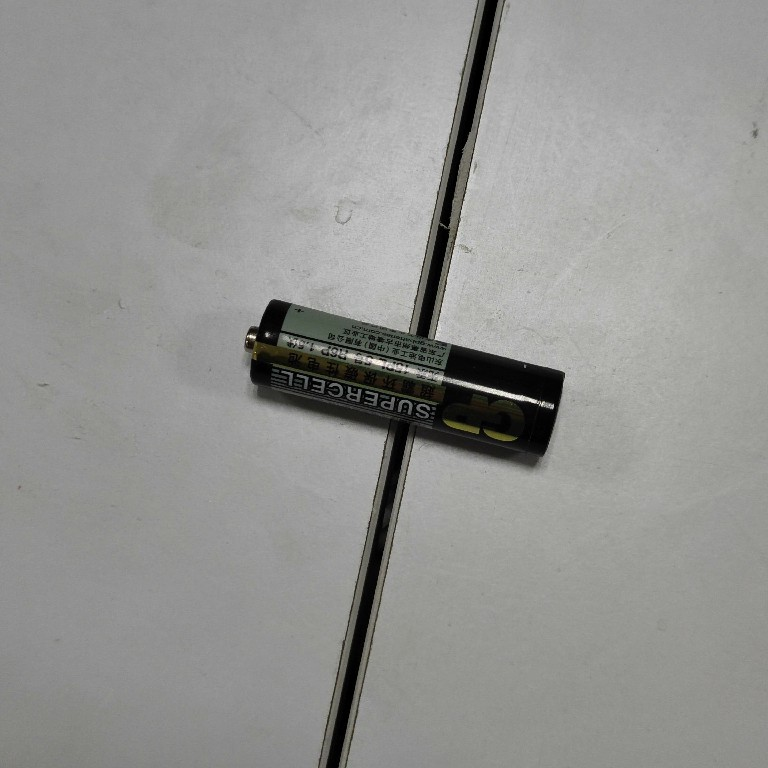charge: (239, 296, 568, 466)
